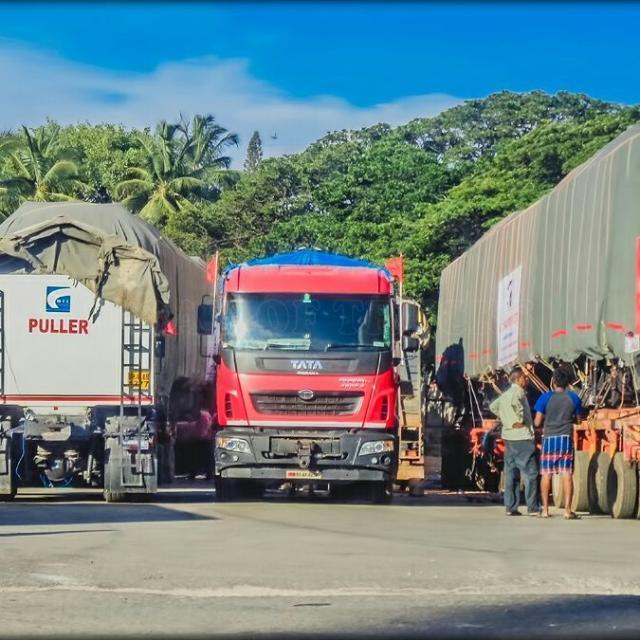Truck: (204, 252, 410, 504)
